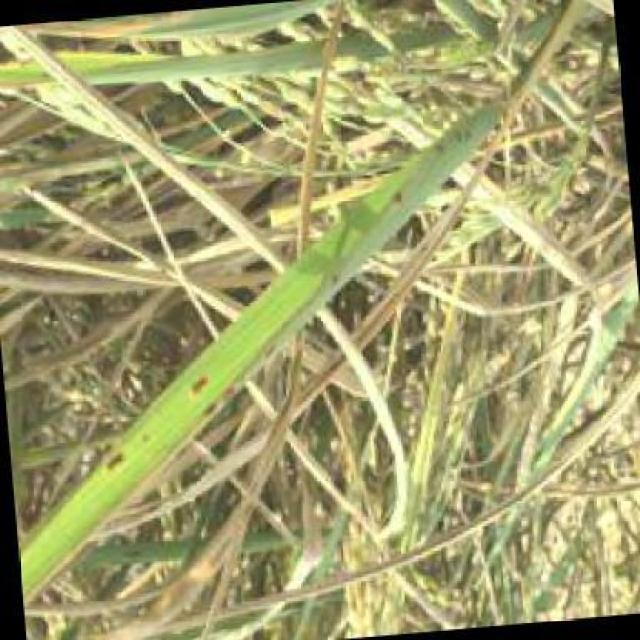Leaf_Blast: (184, 363, 224, 403), (384, 178, 416, 214)
